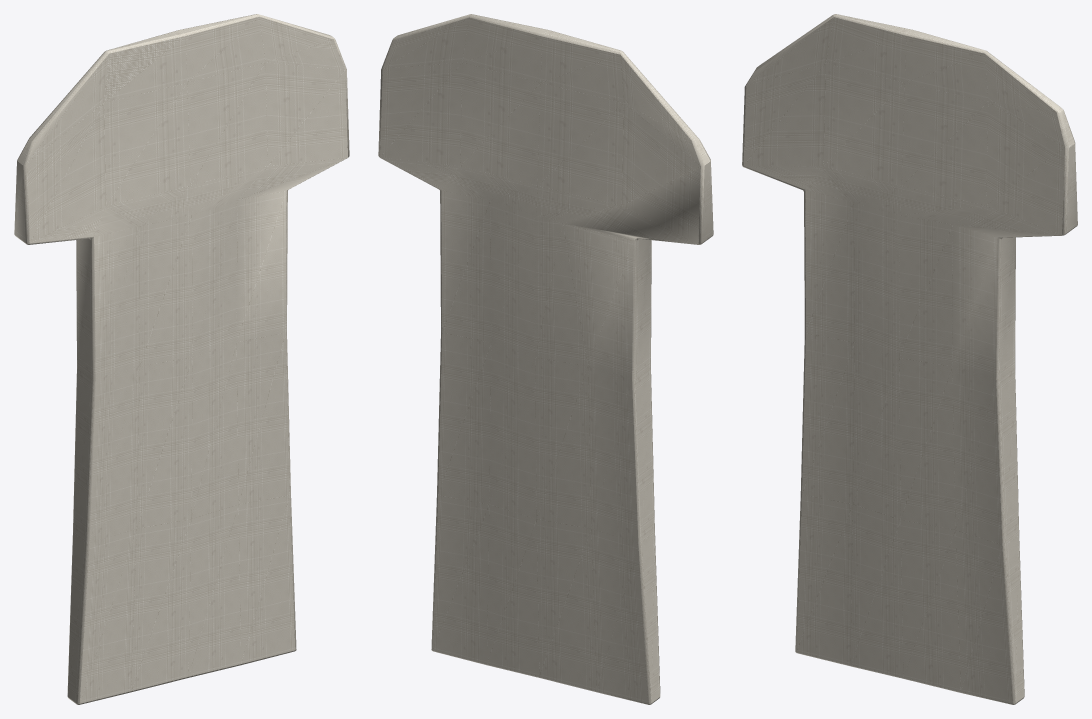
Rendered from SM_MourningRobe_Hung.glb.
3 renders of one model, left to right at view 1: azimuth 30°, elevation 25°; view 2: azimuth 150°, elevation 25°; view 3: azimuth 330°, elevation 25°, orthographic.
Parts seen in each view (by area): view 1: SM_MourningRobe_Hung.001; view 2: SM_MourningRobe_Hung.001; view 3: SM_MourningRobe_Hung.001.
Boxes of the visible parts, <box> form: SM_MourningRobe_Hung.001: <box>14,14,349,704</box>; SM_MourningRobe_Hung.001: <box>378,14,713,704</box>; SM_MourningRobe_Hung.001: <box>742,14,1077,704</box>.
Size of the model in its own units: 0.5 by 0.9528 by 0.0577.
Materials: 1 (1 with a texture image).
